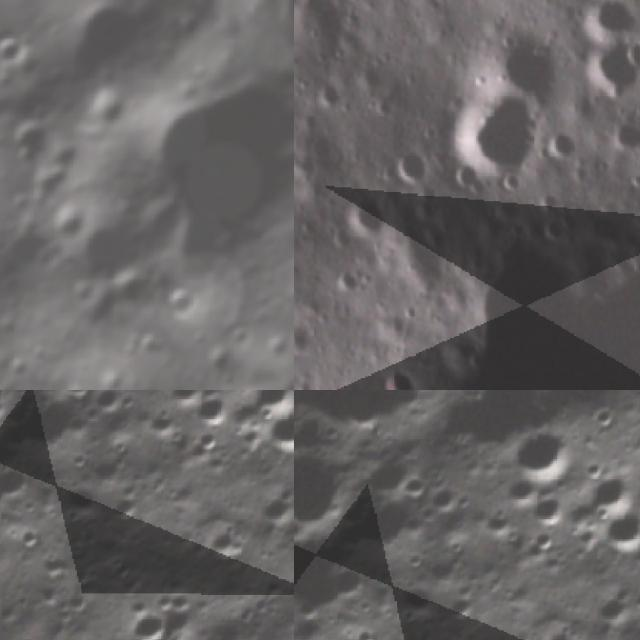crater: (85, 36, 294, 312), (294, 390, 487, 475), (47, 0, 188, 112), (294, 423, 372, 563), (294, 514, 374, 640), (438, 80, 538, 180), (495, 405, 595, 505), (62, 215, 147, 304), (487, 26, 561, 102), (574, 447, 640, 528), (0, 414, 38, 546), (0, 216, 62, 294), (0, 111, 56, 176), (593, 495, 640, 572), (152, 572, 211, 630), (80, 79, 136, 140), (105, 261, 162, 319), (585, 580, 640, 640), (196, 516, 252, 572), (519, 486, 573, 540), (257, 395, 294, 472), (420, 476, 472, 530), (114, 599, 182, 640), (249, 480, 294, 540), (154, 281, 205, 333), (183, 390, 237, 439), (44, 203, 92, 256), (579, 50, 640, 91), (577, 2, 640, 38), (238, 390, 294, 428), (380, 139, 424, 186), (83, 390, 136, 429), (184, 417, 228, 462), (520, 517, 564, 562), (339, 195, 388, 235), (0, 28, 36, 77), (219, 317, 259, 359), (1, 351, 40, 389), (532, 616, 587, 640), (2, 188, 36, 222), (544, 130, 578, 163), (357, 60, 394, 87), (313, 80, 342, 113), (379, 364, 415, 390), (333, 264, 361, 297), (323, 224, 352, 250), (294, 317, 311, 354), (615, 124, 640, 148), (540, 220, 566, 243), (538, 191, 562, 213), (54, 378, 95, 390), (589, 158, 611, 178), (626, 42, 640, 65), (294, 379, 316, 390), (400, 304, 415, 320), (23, 0, 75, 1)
